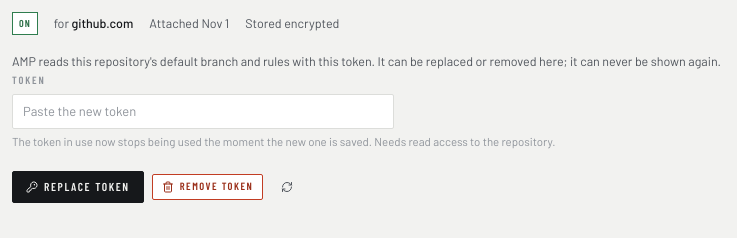
GitHubCredentialPanel: the token is write-only › replaces through rotate when a token is already attached
Type "ghp_TESTONLY1111111111111111111111111111" into the password field labelled "Token".
click(203, 112); type("ghp_TESTONLY1111111111111111111111111111")  # box 12,94 -> 394,129
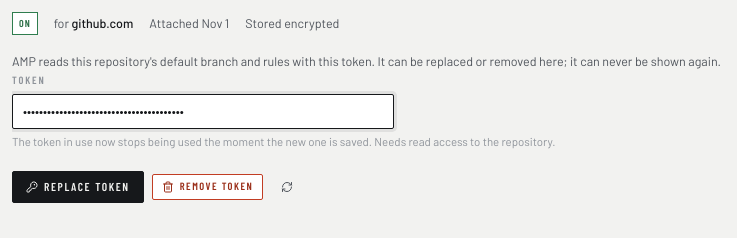
Click the button "Replace token".
click(78, 187)  # box 12,171 -> 144,203
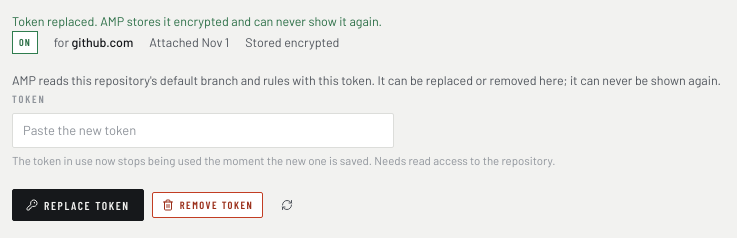
Result: the message shows "Token replaced" at 12,13 -> 382,29
